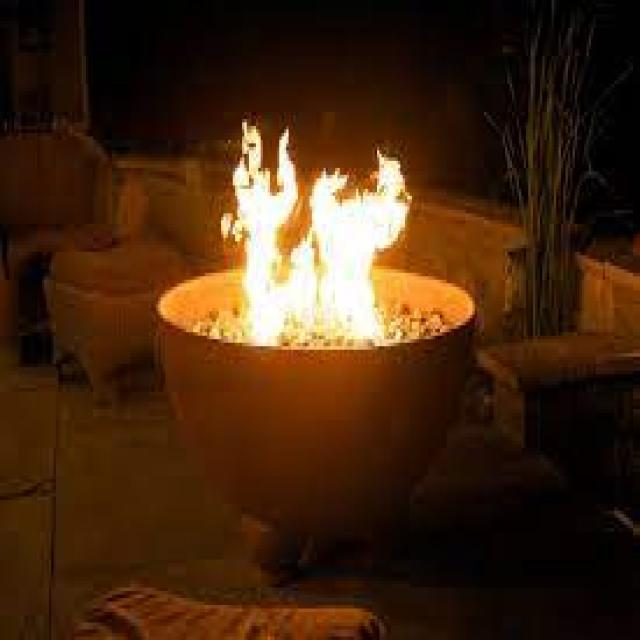fire: (222, 117, 316, 348), (309, 148, 406, 336)
